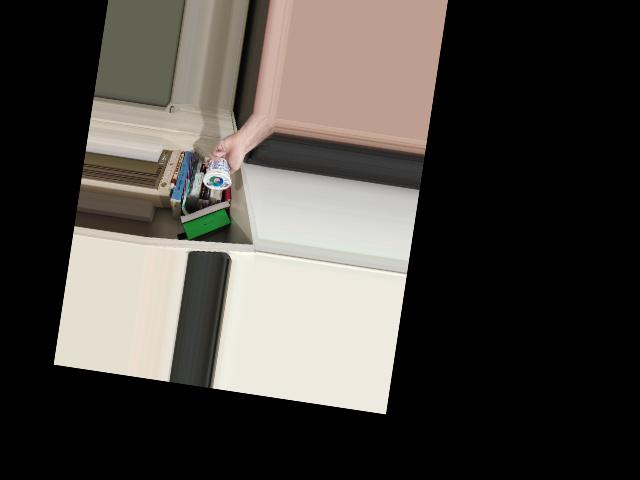cotage: (201, 150, 234, 193)
